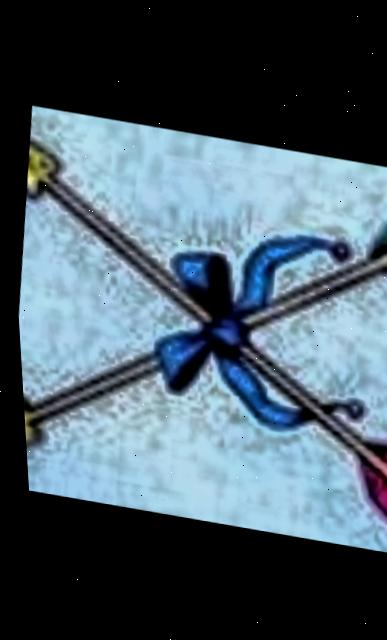Las Jaras: (5, 104, 387, 551)
